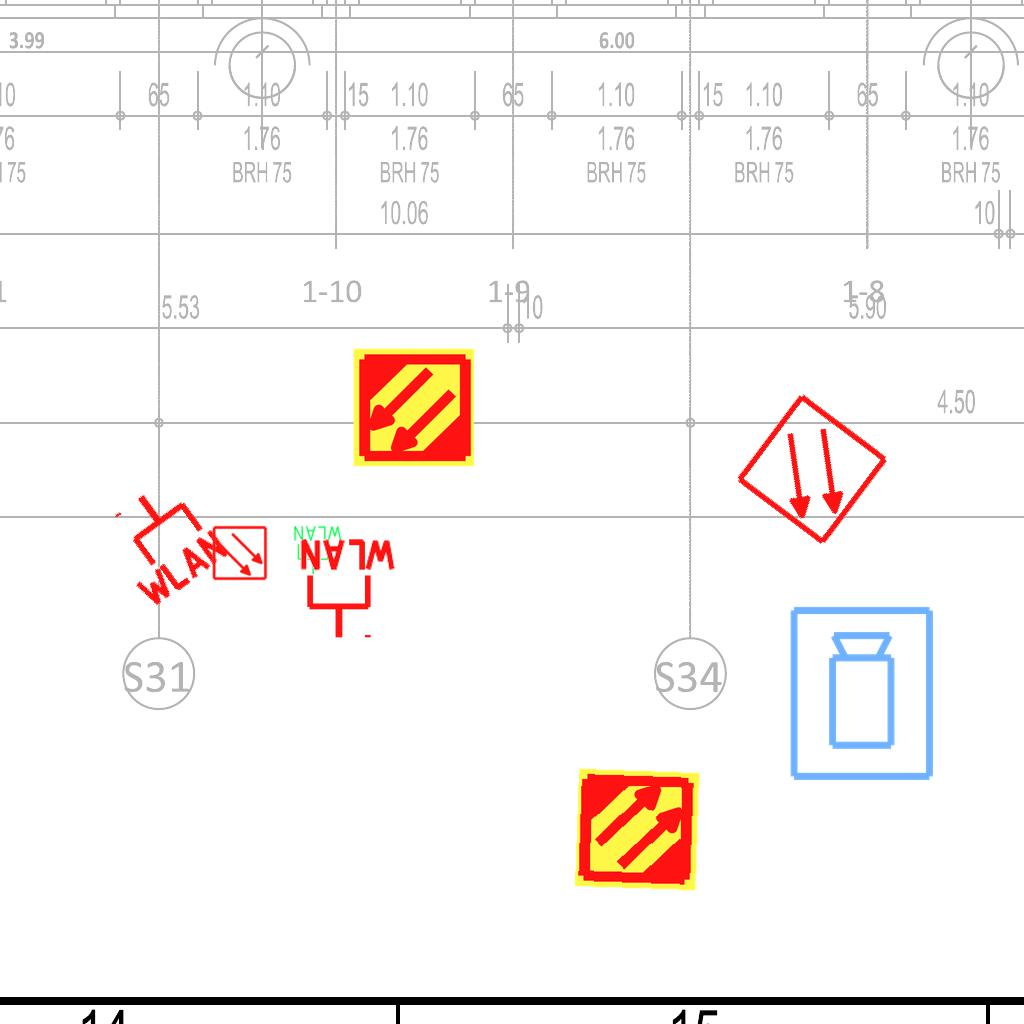ASR_Ansaugrauchmelder: (572, 764, 703, 895), (351, 345, 476, 470)
KFO_Kamera_mit_Festobjektiv: (786, 603, 940, 785)
RMO_Rauchmelder_optischer: (733, 390, 892, 549), (212, 525, 268, 581)
WLAN: (88, 467, 235, 615), (296, 537, 400, 642), (292, 524, 344, 576)
